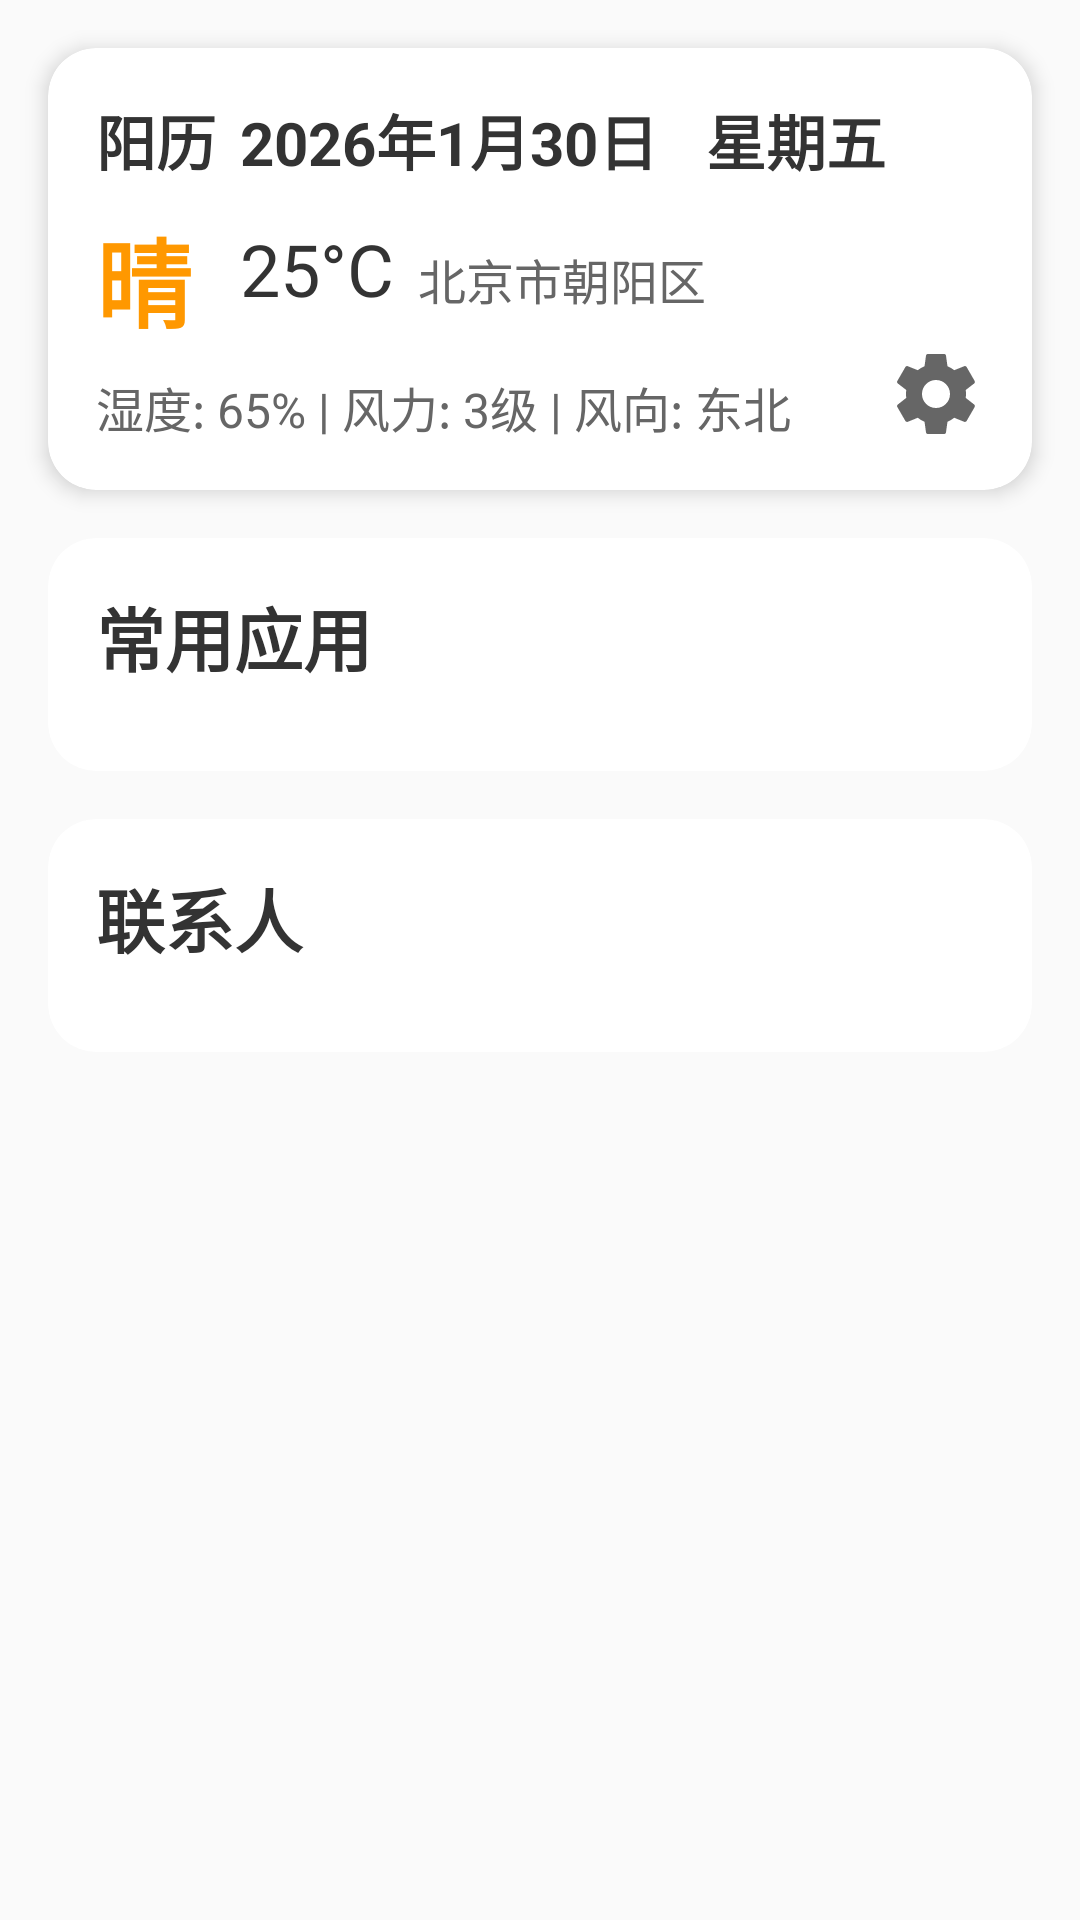

Icons on this 1080 × 1920 Android screen, each with the point to tap as point (x, y):
settings gear: point (936, 394)
